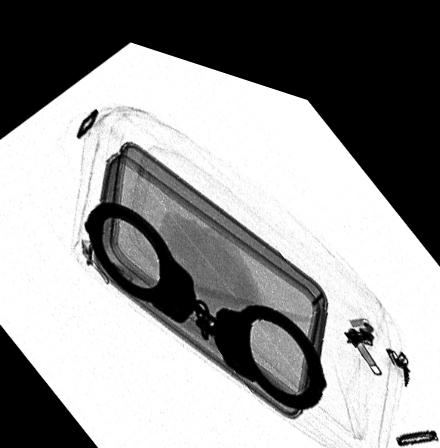HandCuffs: (83, 193, 328, 388)
